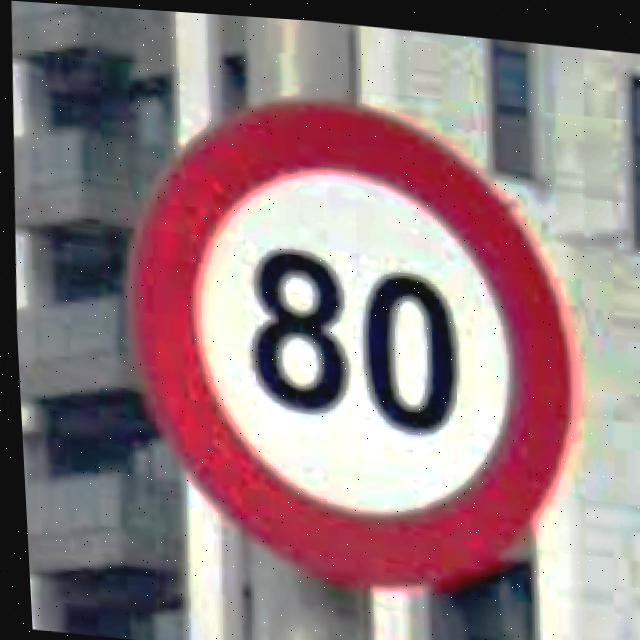max80: (97, 70, 595, 602)
